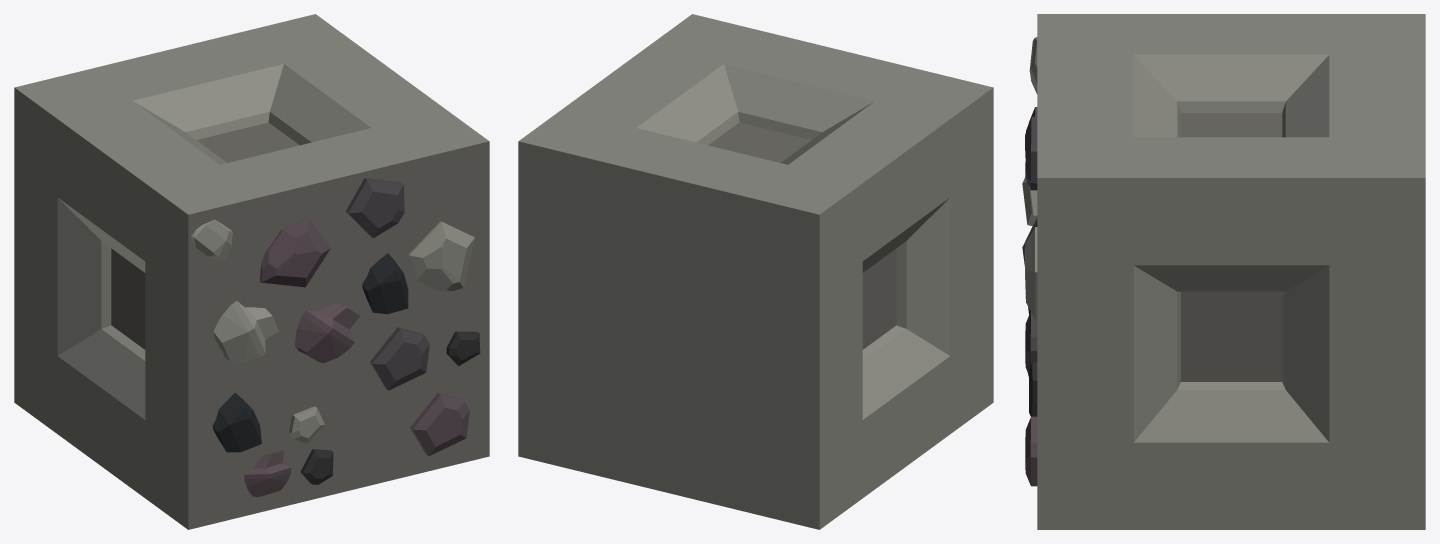
3 renders of one model, left to right at view 1: azimuth 30°, elevation 25°; view 2: azimuth 150°, elevation 25°; view 3: azimuth 270°, elevation 25°, orthographic. The views are drawn at different scales.
Visible parts, largest first — view 1: Cube.004; view 2: Cube.004; view 3: Cube.004.
Part boxes in pixels (x1,y1,x2,y2): Cube.004: [14, 14, 489, 529]; Cube.004: [518, 14, 993, 529]; Cube.004: [1022, 14, 1425, 529].
Bounding box in the file's own units: 1 × 1 × 1.04.
Materials: 1 (1 with a texture image).
